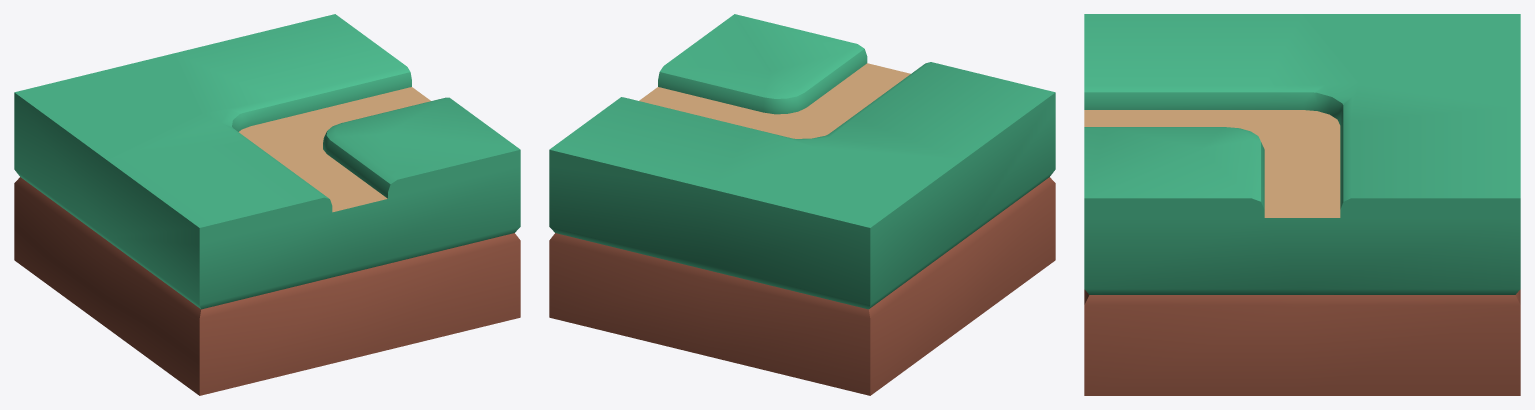
File: kaykit-square-forest-roadc-detail.glb
3 renders of one model, left to right at view 1: azimuth 30°, elevation 25°; view 2: azimuth 150°, elevation 25°; view 3: azimuth 270°, elevation 25°, orthographic. The views are drawn at different scales.
Visible parts, largest first — view 1: square_forest_roadC_detail; view 2: square_forest_roadC_detail; view 3: square_forest_roadC_detail.
Part boxes in pixels (<box>): square_forest_roadC_detail: <box>14,14,520,395</box>; square_forest_roadC_detail: <box>549,14,1055,395</box>; square_forest_roadC_detail: <box>1084,14,1520,395</box>.
Size of the model in its own units: 2 by 0.9998 by 2.
